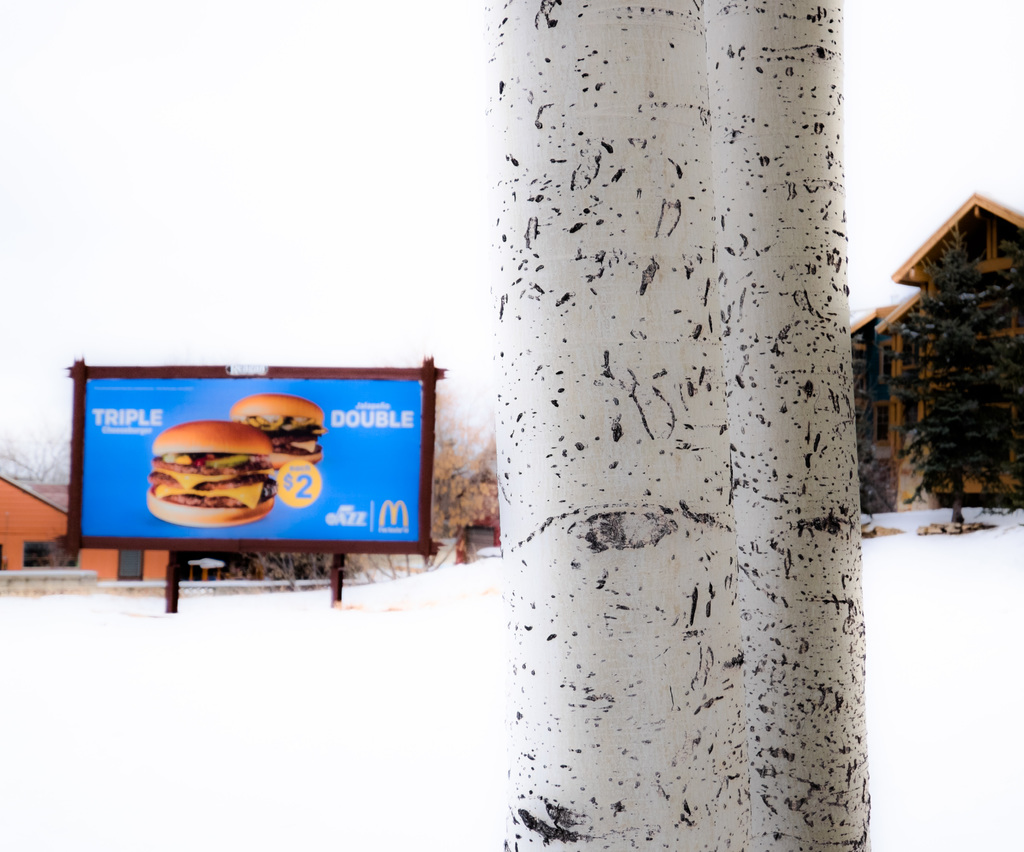Hamburger: (149, 419, 279, 528), (231, 393, 325, 466)
